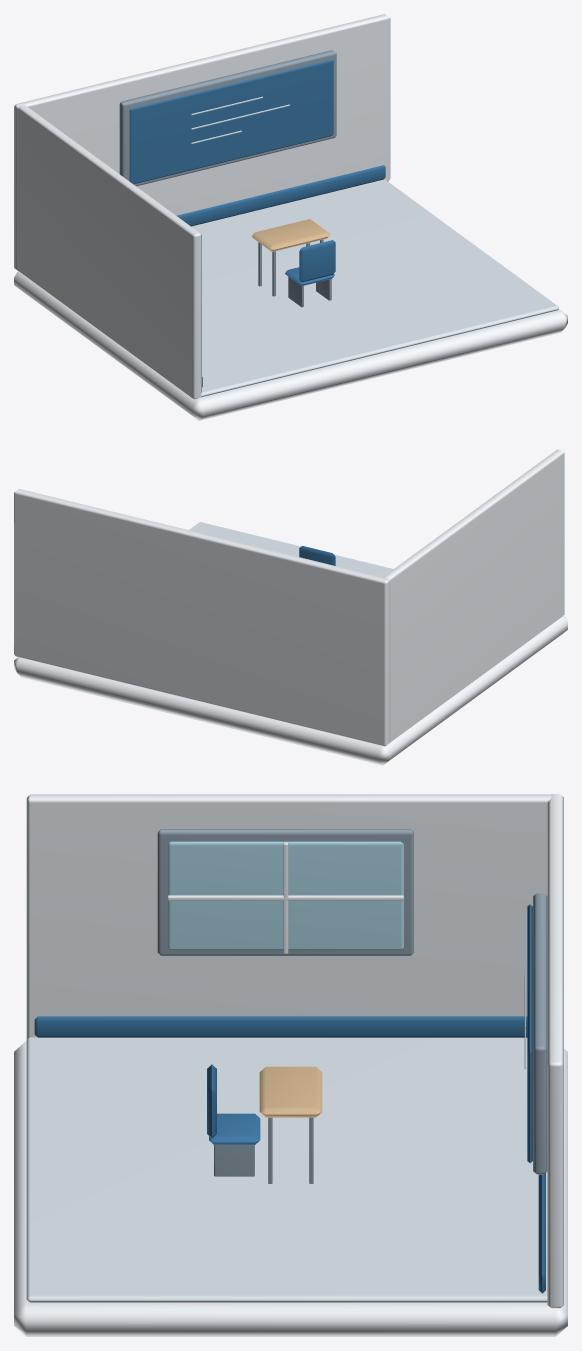
The model's file is classroom.glb.
3 views of the same model, one above another, from view 1: azimuth 30°, elevation 25°; view 2: azimuth 150°, elevation 25°; view 3: azimuth 270°, elevation 25° (orthographic). The views are drawn at different scales.
Parts seen in each view (by area): view 1: Classroom, WallBack, WallLeft, Furniture; view 2: WallBack, WallLeft, Classroom, Furniture; view 3: Classroom, WallLeft, WallBack, Furniture.
Boxes of the visible parts, <box> form: Classroom: <box>14,179,567,420</box>; WallBack: <box>14,14,390,271</box>; WallLeft: <box>17,105,202,399</box>; Furniture: <box>251,219,335,307</box>; WallBack: <box>14,489,390,746</box>; WallLeft: <box>383,449,564,741</box>; Classroom: <box>14,522,567,765</box>; Furniture: <box>299,546,335,565</box>; Classroom: <box>14,1037,567,1336</box>; WallLeft: <box>26,794,551,1038</box>; WallBack: <box>524,794,563,1308</box>; Furniture: <box>207,1064,322,1183</box>.
Bounding box in the file's own units: 6.3 × 2.99 × 5.4.
